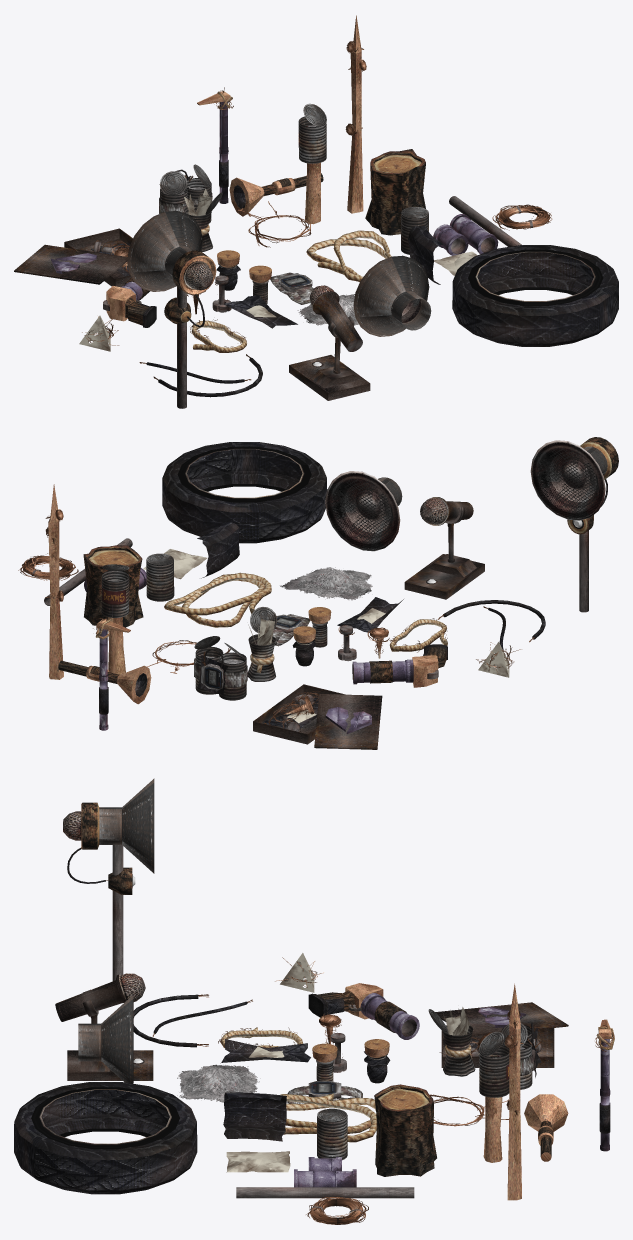
The model's file is props_fixed.fbx.
The picture shows the model from 3 angles, top to bottom: view 1: azimuth 30°, elevation 25°; view 2: azimuth 150°, elevation 25°; view 3: azimuth 270°, elevation 25°; orthographic projection. The views are drawn at different scales.
Visible parts, largest first — view 1: rezine_big, rupor, Cylinder, nabor, Mic, derevo, banka.002, kopye, bomb, trubka_v.001, Cylinder.001, always1.001 (+17 smaller); view 2: rezine_big, rupor, nabor, Cylinder, Mic, derevo, bomb, trubka_v.001, Cylinder.001, banka.002, kopye, poroh (+15 smaller); view 3: rezine_big, rupor, derevo, Mic, nabor, Cylinder, trubka_v.001, banka.002, rezine, kopye, poroh, Cylinder.001 (+16 smaller).
Part boxes in pixels (box(x1,y1,x2,y2)): rezine_big: box(452, 245, 618, 346); rupor: box(127, 211, 216, 408); Cylinder: box(353, 255, 431, 336); nabor: box(14, 228, 132, 287); Mic: box(289, 285, 370, 400); derevo: box(365, 149, 425, 235); banka.002: box(298, 103, 326, 224); kopye: box(345, 15, 366, 213); bomb: box(159, 164, 212, 223); trubka_v.001: box(103, 278, 156, 327); Cylinder.001: box(306, 230, 391, 282); always1.001: box(229, 173, 323, 216); rezine_big: box(162, 442, 327, 543); rupor: box(530, 437, 618, 612); nabor: box(253, 684, 382, 749); Cylinder: box(325, 471, 402, 551); Mic: box(404, 497, 484, 599); derevo: box(83, 545, 143, 627); bomb: box(194, 636, 247, 700); trubka_v.001: box(352, 644, 447, 687); Cylinder.001: box(164, 572, 271, 627); banka.002: box(101, 564, 129, 674); kopye: box(45, 484, 63, 679); poroh: box(280, 567, 372, 600); rezine_big: box(14, 1082, 197, 1194); rupor: box(63, 778, 154, 981); derevo: box(374, 1084, 436, 1176); Mic: box(55, 973, 153, 1080); nabor: box(435, 1002, 568, 1067); Cylinder: box(78, 995, 133, 1083); trubka_v.001: box(308, 983, 419, 1039); banka.002: box(479, 1031, 509, 1162); rezine: box(223, 1092, 286, 1141); kopye: box(504, 983, 523, 1200); poroh: box(177, 1063, 260, 1102); Cylinder.001: box(280, 1093, 376, 1142).
Size of the model in its own units: 535 by 501 by 206.
